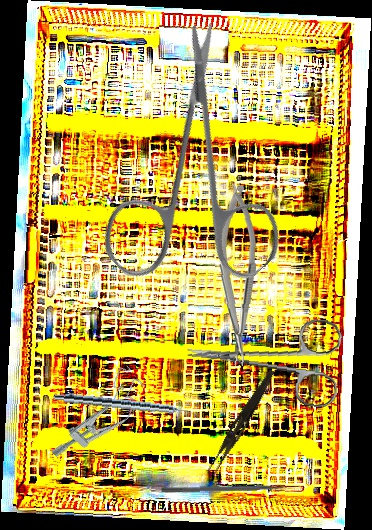Dressing Forceps: (206, 366, 277, 478)
Handpiece: (52, 391, 200, 420)
Iris Scissors: (32, 16, 356, 340), (182, 306, 345, 409)
Needle Holder: (215, 184, 259, 367)
Pusher: (160, 484, 297, 495)
Speculum: (44, 362, 155, 475)
